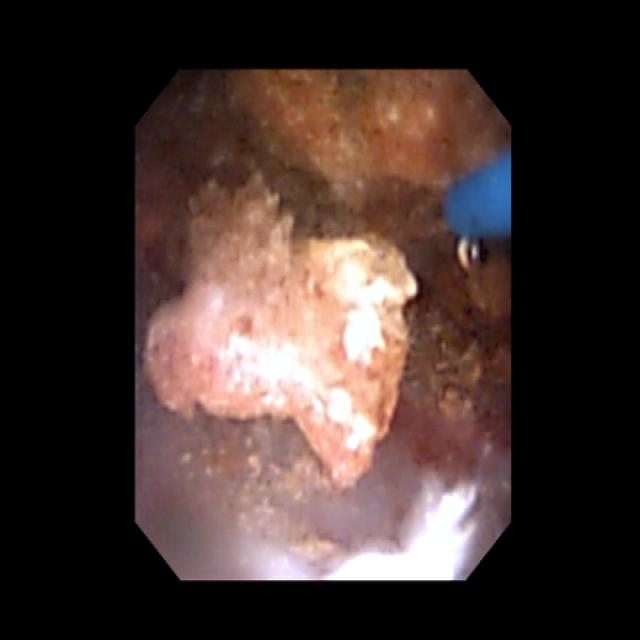fiber: (449, 155, 506, 231)
stone: (146, 176, 417, 478), (227, 77, 505, 211)
